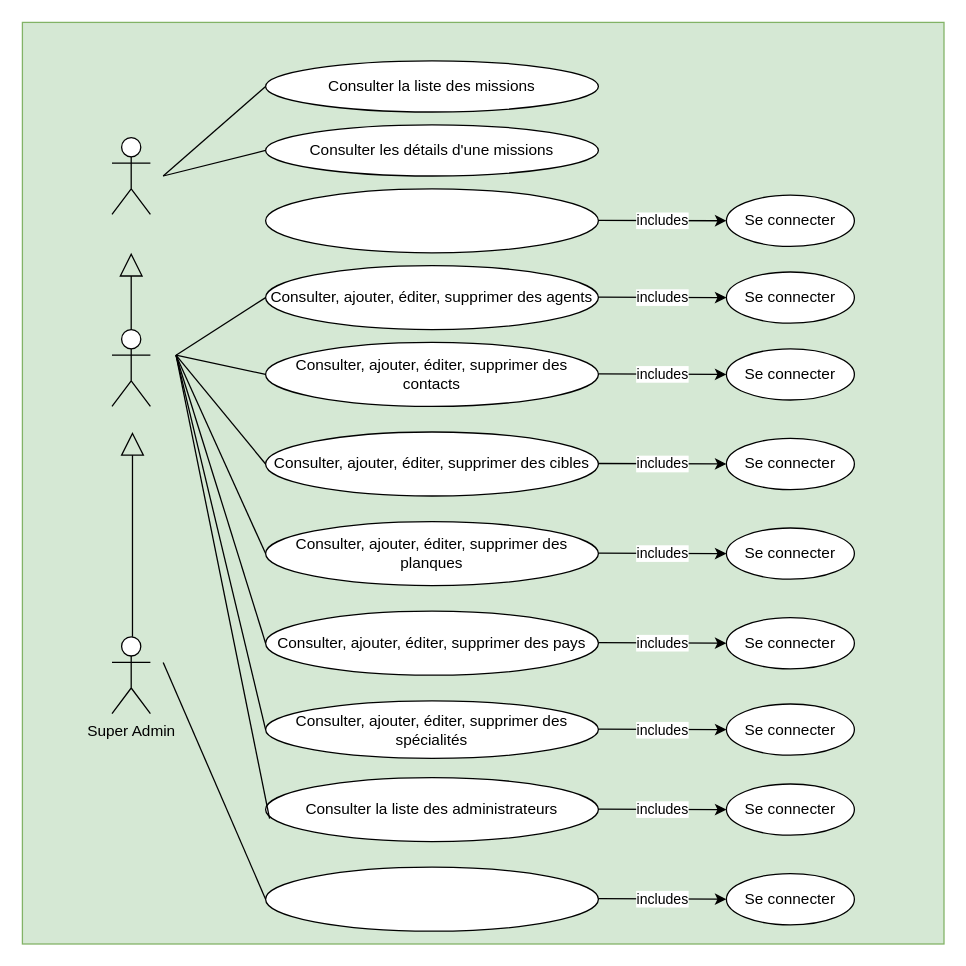
This 966x966 diagram has some shape labels left out. The shapes that lost their labels are listed below. From the top down, each one's centre as x and y in pixels, then its label:
At point 130,175: "Utilisateur".
At point 431,220: "Consulter, ajouter, éditer, supprimer des missions".
At point 130,367: "Administrateur".
At point 431,898: "ajouter, éditer, supprimer des administrateurs".
